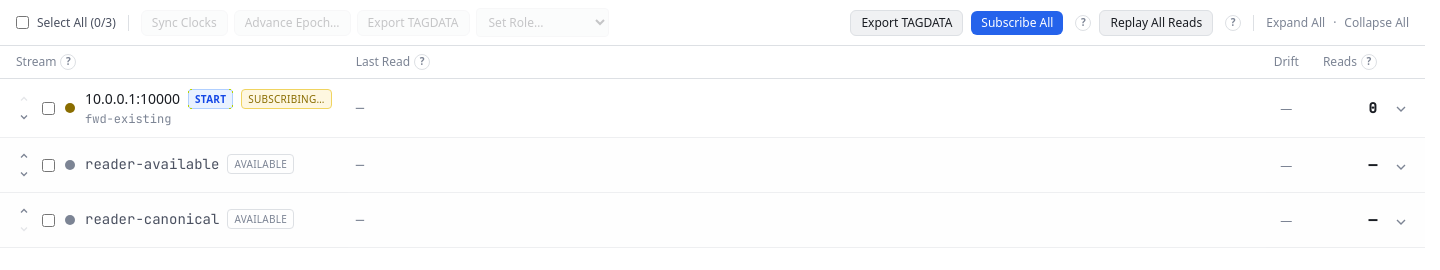
it: StreamsTab › subscribes all available streams while preserving existing subscriptions
Step 1. Click the button "Subscribe All" → (1017, 22), box [971, 10, 1064, 34]
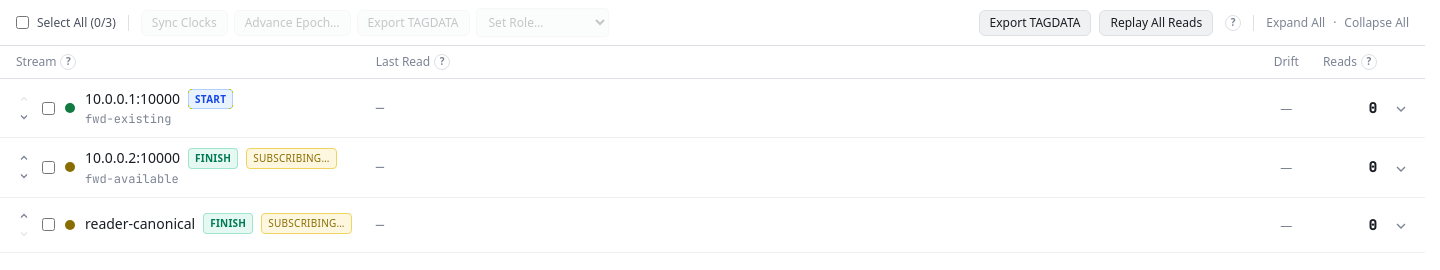
expect the text "Subscribing…" is shown 2 times: met, box [246, 148, 337, 169]; [261, 213, 352, 234]
